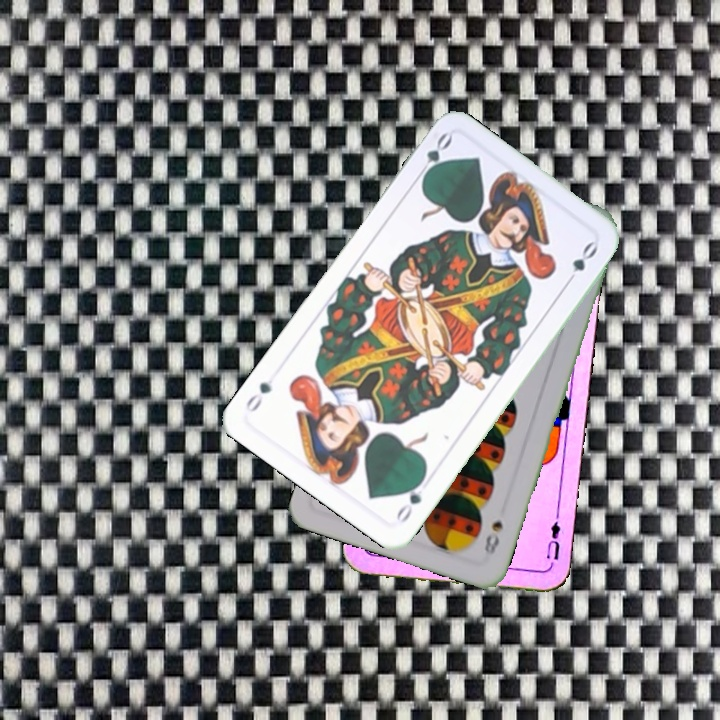EU: (542, 517, 564, 569)
GO: (412, 129, 455, 185), (392, 472, 428, 526)
S8: (480, 517, 506, 558)
